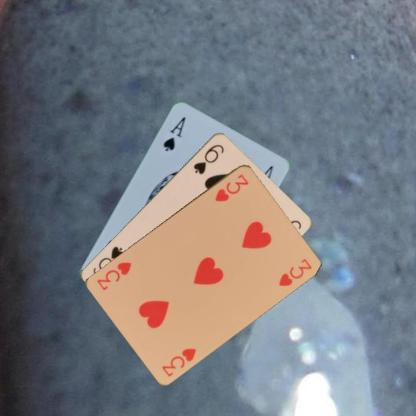3h: (158, 345, 198, 378), (212, 171, 250, 203)
6s: (190, 141, 226, 176)
As: (160, 114, 186, 152)
